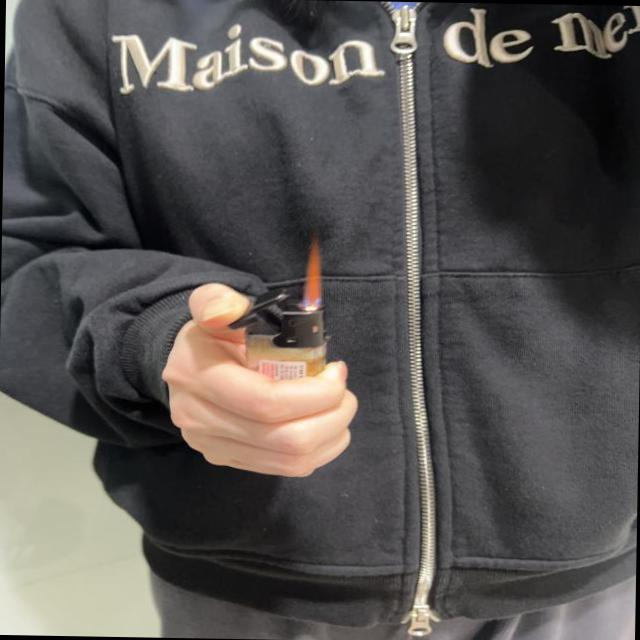Fire: (298, 235, 324, 312)
